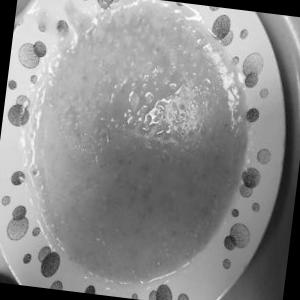porridge: (0, 5, 289, 300)
